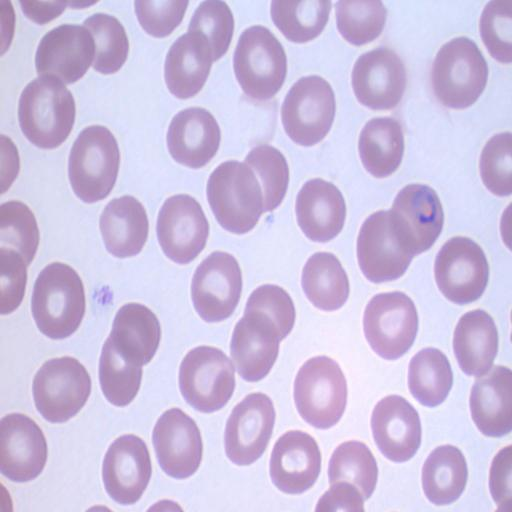Infected: (391, 182, 445, 250)
Uninfected: (230, 294, 295, 384), (356, 210, 416, 281), (31, 263, 86, 338), (18, 76, 75, 148), (67, 125, 121, 200), (207, 161, 264, 231), (292, 357, 348, 428), (431, 37, 487, 107), (280, 75, 336, 144), (102, 435, 156, 506), (233, 26, 287, 96), (32, 357, 89, 423), (361, 292, 417, 359), (224, 393, 276, 465), (190, 251, 243, 321), (152, 408, 204, 479), (157, 194, 211, 262), (178, 347, 234, 412), (433, 237, 488, 303), (164, 32, 216, 98), (36, 26, 95, 84), (296, 177, 347, 244), (267, 430, 320, 493), (107, 303, 160, 366), (99, 195, 151, 258), (370, 395, 420, 460), (352, 48, 406, 108), (167, 107, 221, 166), (451, 310, 498, 376), (468, 366, 512, 435), (0, 414, 46, 480), (98, 344, 144, 407), (301, 252, 350, 311), (245, 146, 288, 212), (328, 441, 377, 498), (421, 444, 467, 504), (358, 117, 404, 176), (84, 13, 128, 71), (408, 348, 451, 405), (272, 0, 330, 42), (0, 201, 38, 264), (189, 2, 233, 56), (335, 2, 386, 44), (137, 1, 187, 35)
